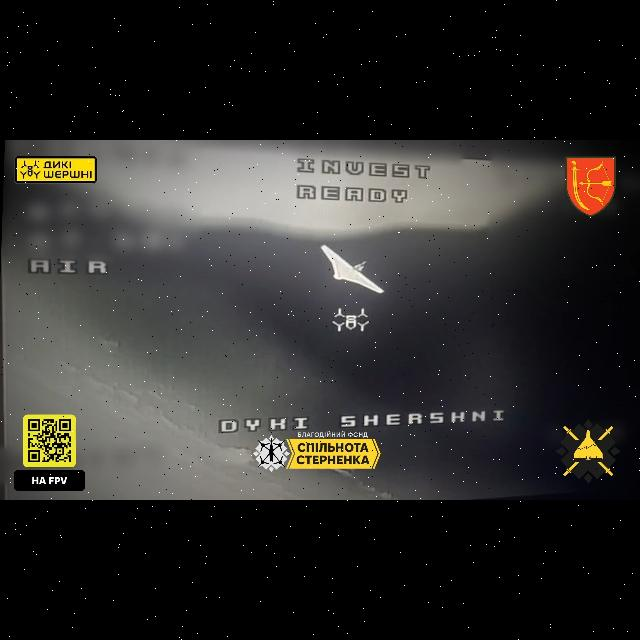Gerbera: (320, 244, 386, 294)
